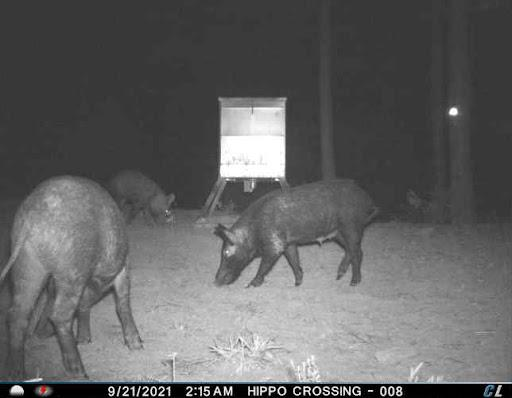Hog: (1, 161, 152, 375), (211, 178, 384, 302), (107, 163, 178, 232)
